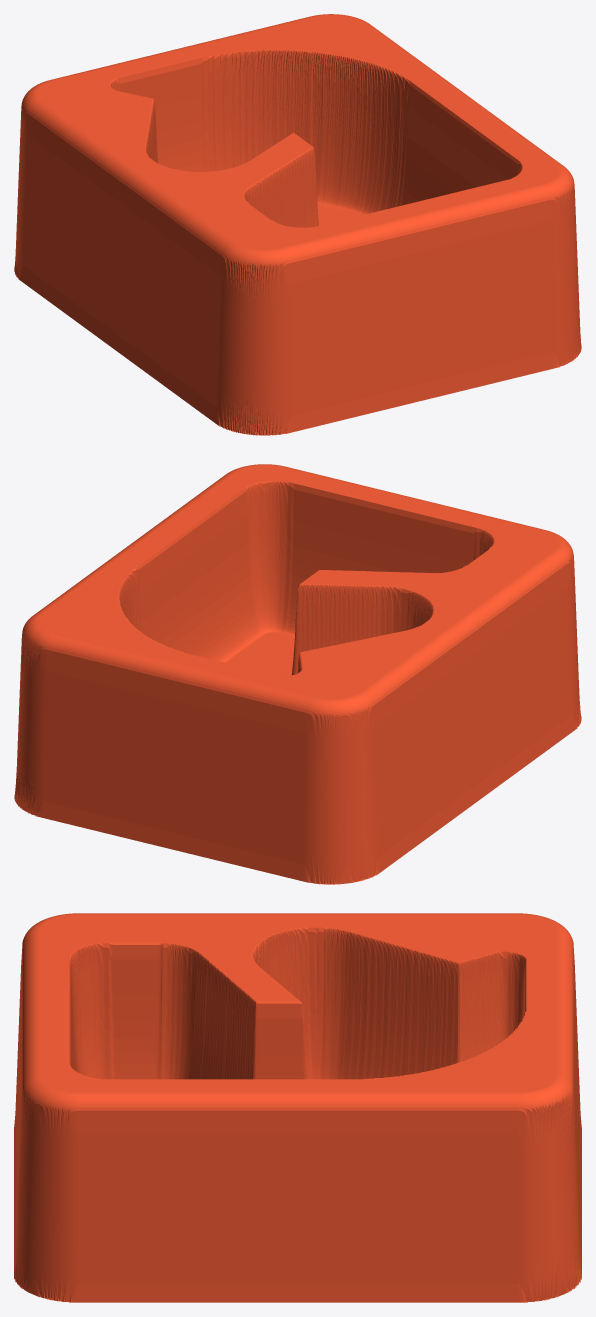
The model's file is mold.glb.
3 renders of one model, top to bottom at view 1: azimuth 30°, elevation 25°; view 2: azimuth 150°, elevation 25°; view 3: azimuth 270°, elevation 25°, orthographic. The views are drawn at different scales.
Parts seen in each view (by area): view 1: geometry_0; view 2: geometry_0; view 3: geometry_0.
Part boxes in pixels (x1,y1,x2,y2): geometry_0: [14, 14, 581, 435]; geometry_0: [14, 464, 581, 884]; geometry_0: [14, 913, 581, 1302].
Bounding box in the file's own units: 0.066 × 0.031 × 0.0798.
